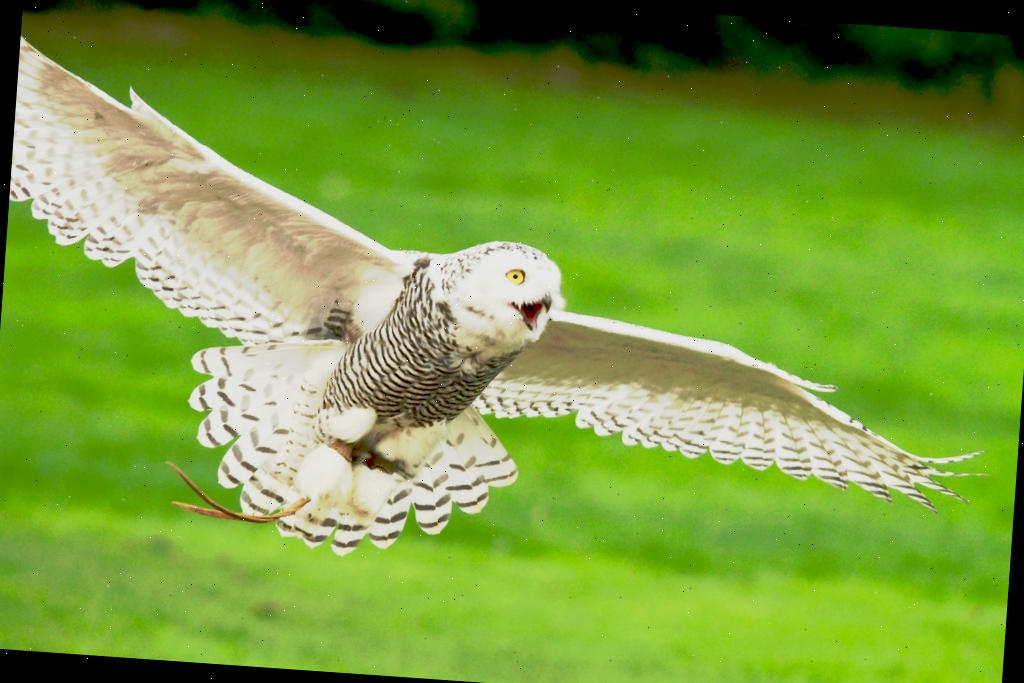Owl: (0, 29, 1017, 599)
